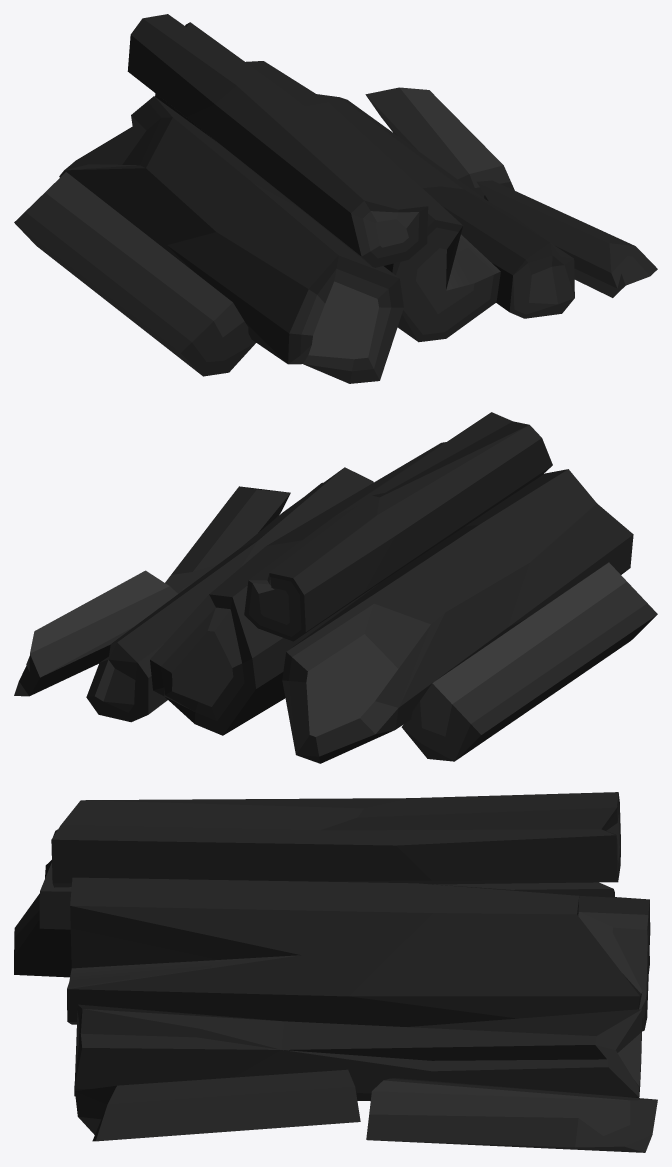
File: pile_of_coal.fbx
The picture shows the model from 3 angles, top to bottom: view 1: azimuth 30°, elevation 25°; view 2: azimuth 150°, elevation 25°; view 3: azimuth 270°, elevation 25°; orthographic projection. The views are drawn at different scales.
Parts seen in each view (by area): view 1: pile_of_coal; view 2: pile_of_coal; view 3: pile_of_coal.
Part boxes in pixels (box(x1,y1,x2,y2)): pile_of_coal: box(14, 14, 657, 383); pile_of_coal: box(14, 412, 657, 763); pile_of_coal: box(14, 792, 657, 1152).
Size of the model in its own units: 0.6219 by 0.2337 by 0.6514.
